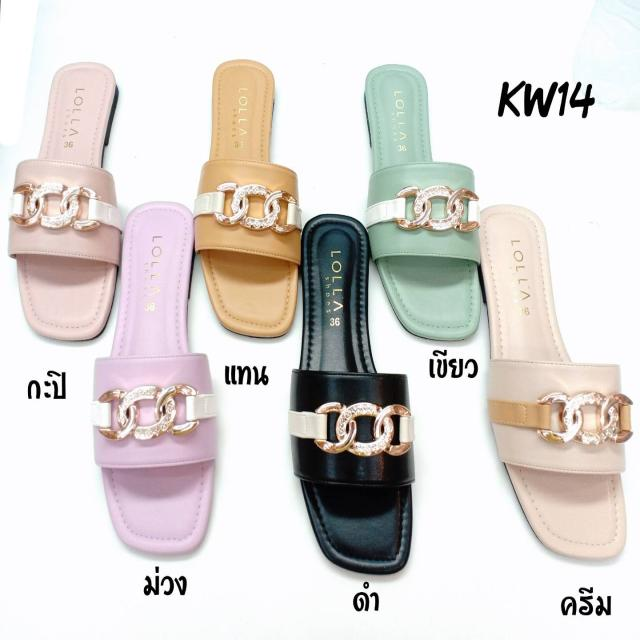black: (300, 219, 421, 579)
cream: (476, 207, 626, 552)
green: (364, 68, 478, 336)
kapi: (21, 62, 114, 337)
purple: (102, 204, 210, 551)
tan: (202, 62, 300, 337)
